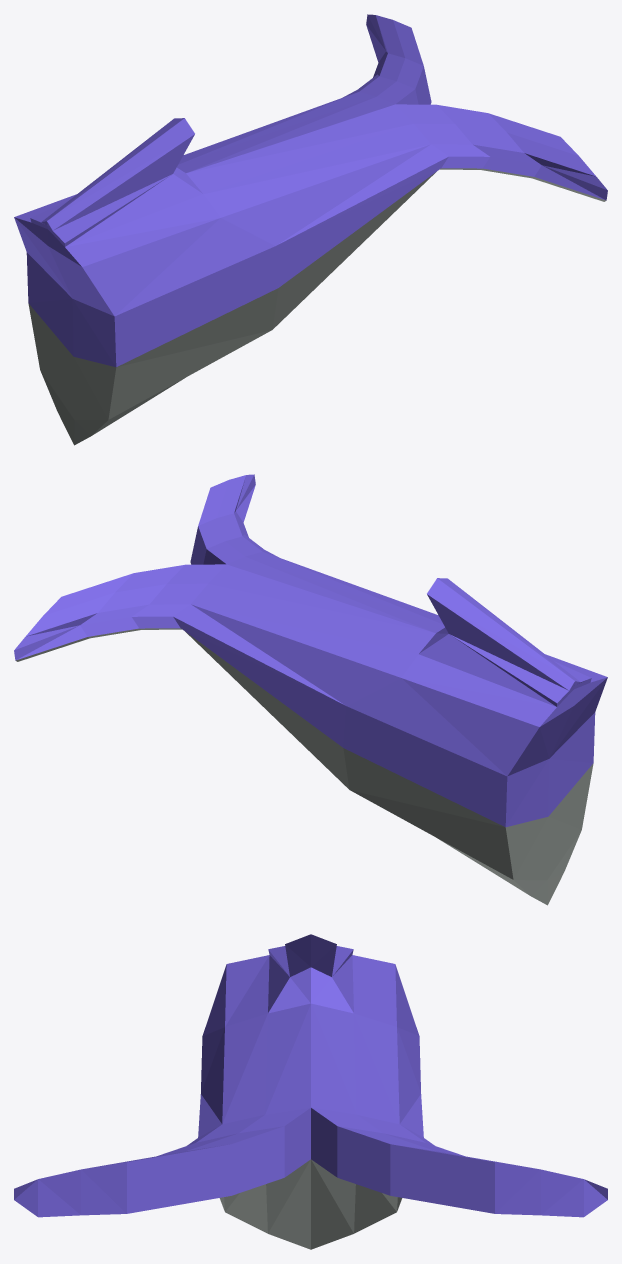
The model's file is Zhopa.fbx.
3 renders of one model, top to bottom at view 1: azimuth 30°, elevation 25°; view 2: azimuth 150°, elevation 25°; view 3: azimuth 270°, elevation 25°, orthographic. The views are drawn at different scales.
Visible parts, largest first — view 1: Plane.002; view 2: Plane.002; view 3: Plane.002.
Part boxes in pixels (bbox=[...]): Plane.002: bbox=[14, 14, 607, 445]; Plane.002: bbox=[14, 474, 607, 905]; Plane.002: bbox=[14, 934, 607, 1249].
Size of the model in its own units: 163 by 105 by 152.
